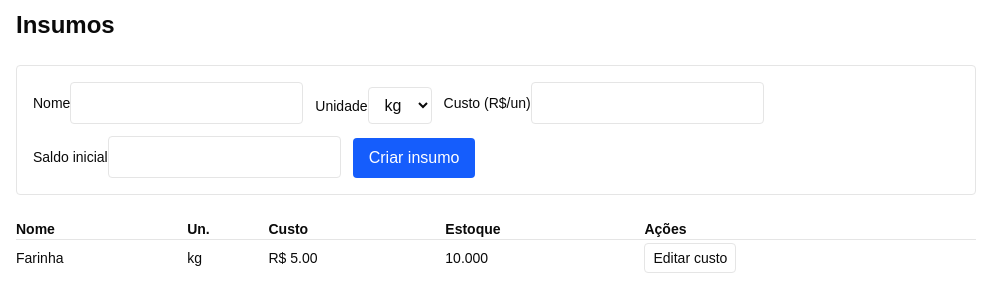
Test case: InsumosPage › edita custo de insumo via PATCH
Expected: the text "Farinha" is shown, [16,240,187,276]
Click the button "Editar custo" at (690, 258), box [644,243,736,273]
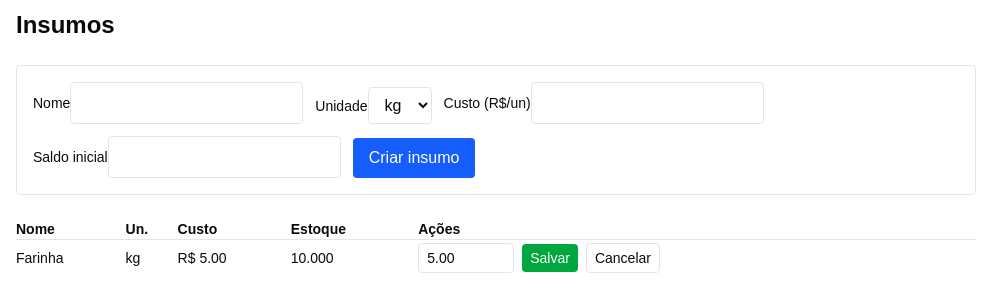
Replace the text in the number field named "Novo custo" with "6.50" at (466, 258), box [418,243,514,273]
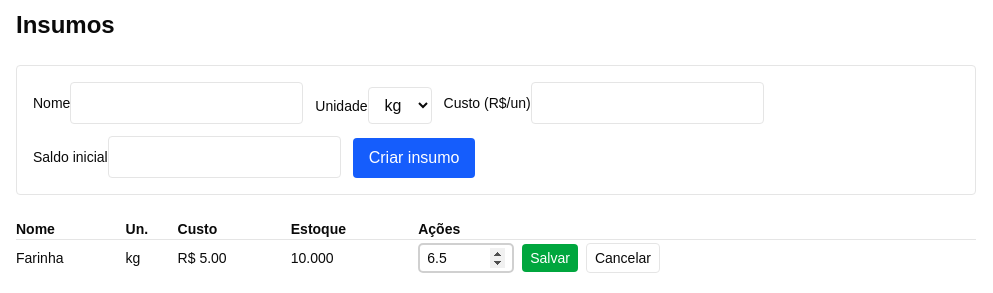
Click the button "Salvar" at (550, 258), box [522,244,578,272]
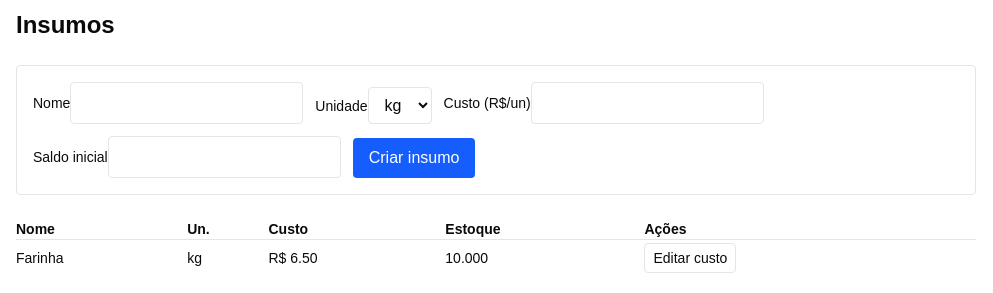
Result: the text "R$ 6.50" is shown at [268,240,445,276]
